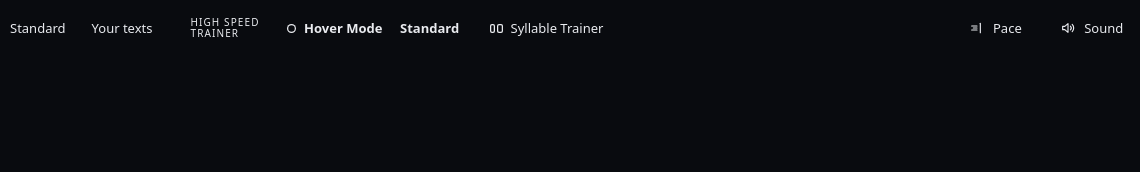
the branch trees › in the toolbar › opens the Pace tree, and only it
Click the button with aria-label "Pace:". click: {"x": 997, "y": 28}
box: [952,12,1042,44]
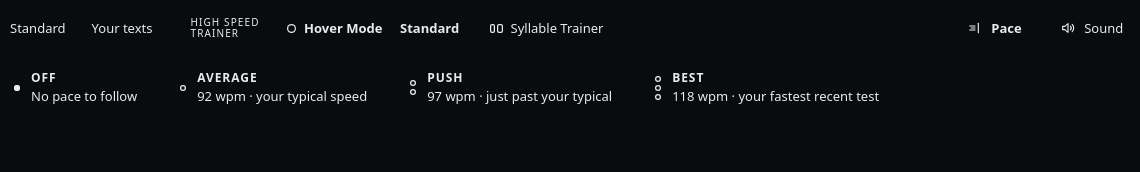
expect the button with aria-label "Pace:" is expanded: met, box [951,12,1042,44]
expect the element "pace" is shown: met, box [14,69,879,105]
